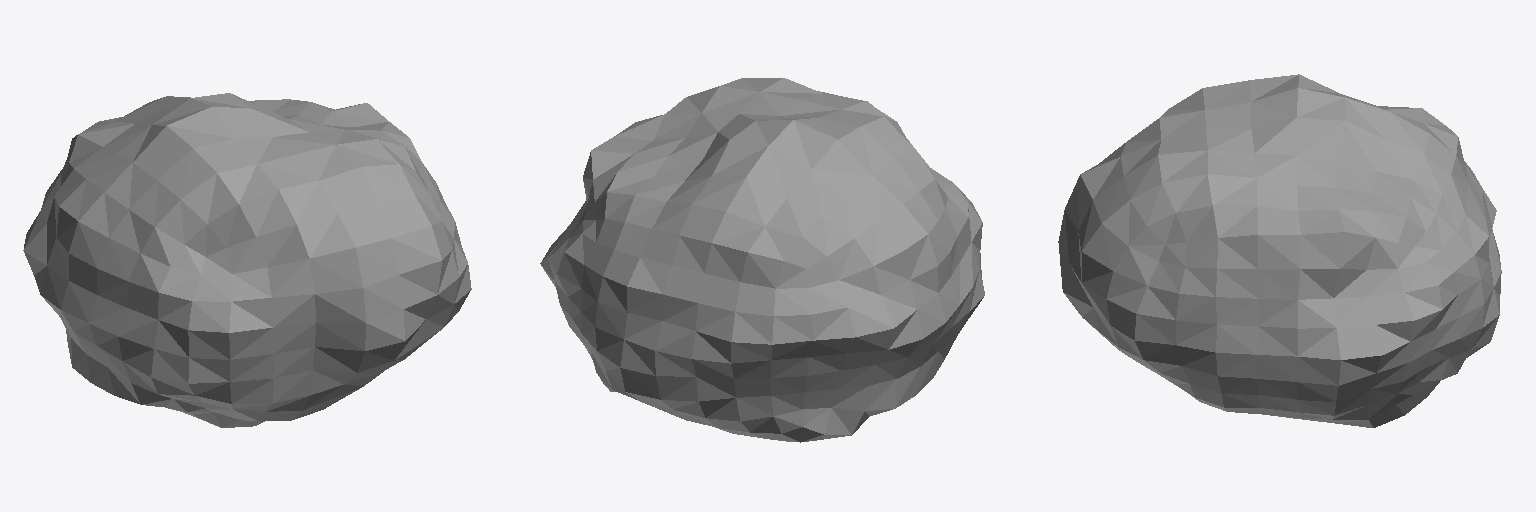
Rendered from rock.obj.
3 views of the same model, side by side, from view 1: azimuth 30°, elevation 25°; view 2: azimuth 150°, elevation 25°; view 3: azimuth 270°, elevation 25° (orthographic).
Visible parts, largest first — view 1: Cube_Cube.005; view 2: Cube_Cube.005; view 3: Cube_Cube.005.
Boxes of the visible parts, box(x1,y1,x2,y2) form: Cube_Cube.005: box(23, 93, 471, 427); Cube_Cube.005: box(540, 78, 984, 442); Cube_Cube.005: box(1058, 74, 1501, 427).
Size of the model in its own units: 1.94 by 1.5 by 1.99.